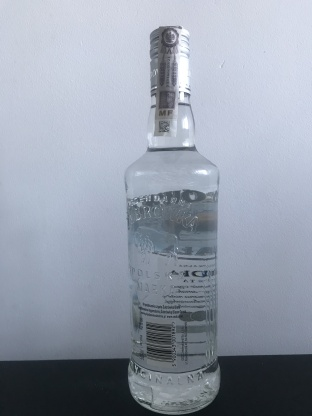nakretka: (147, 22, 192, 99)
